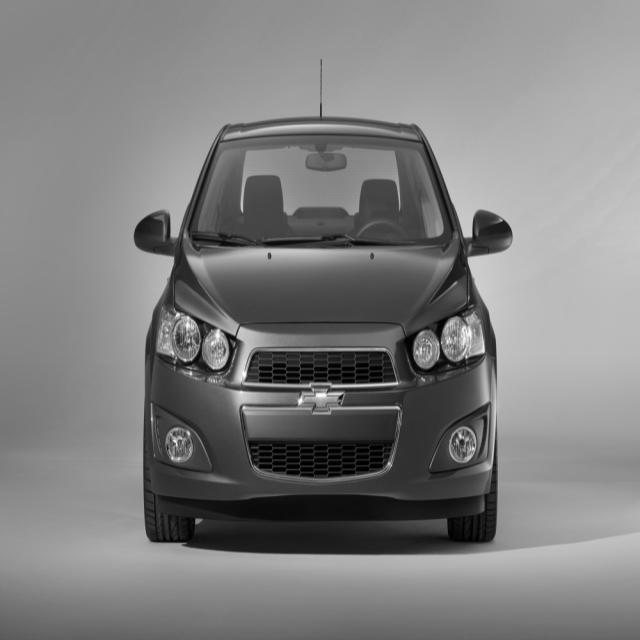car: (133, 108, 513, 545)
